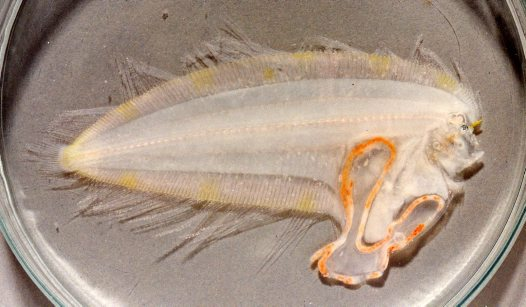fish: (54, 50, 486, 285)
